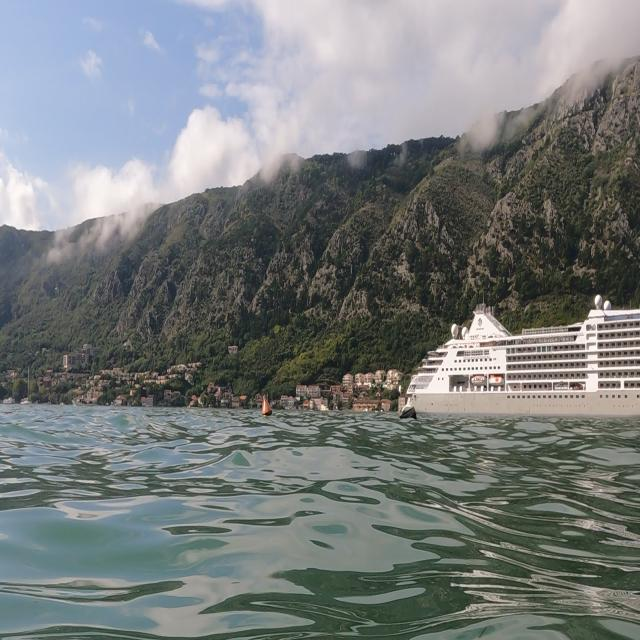boat: (396, 291, 638, 421)
buoy: (259, 392, 277, 429), (396, 407, 424, 429)
